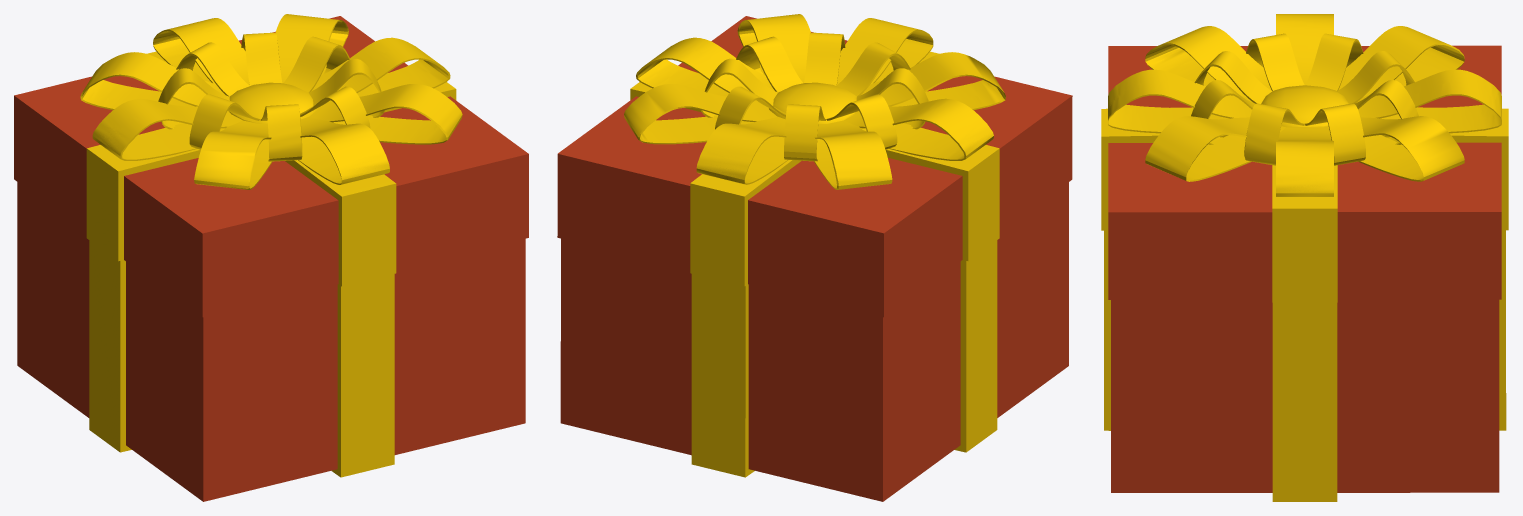
Rendered from present.fbx.
The picture shows the model from 3 angles, left to right: view 1: azimuth 30°, elevation 25°; view 2: azimuth 150°, elevation 25°; view 3: azimuth 270°, elevation 25°; orthographic projection. The views are drawn at different scales.
Visible parts, largest first — view 1: present_bottom, present_top, present_bow; view 2: present_bottom, present_top, present_bow; view 3: present_bottom, present_top, present_bow.
Boxes of the visible parts, x1,y1,x2,y2 form: present_bottom: [17, 182, 525, 501]; present_top: [14, 16, 528, 317]; present_bow: [80, 14, 462, 189]; present_bottom: [560, 182, 1068, 501]; present_top: [557, 16, 1072, 317]; present_bow: [624, 14, 1005, 189]; present_bottom: [1104, 230, 1506, 501]; present_top: [1101, 45, 1508, 302]; present_bow: [1108, 14, 1501, 196].
Size of the model in its own units: 132 by 124 by 132.
